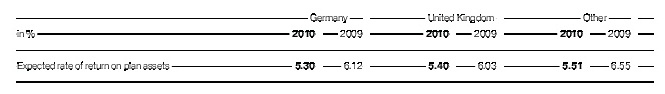table: (0, 0, 665, 94)
